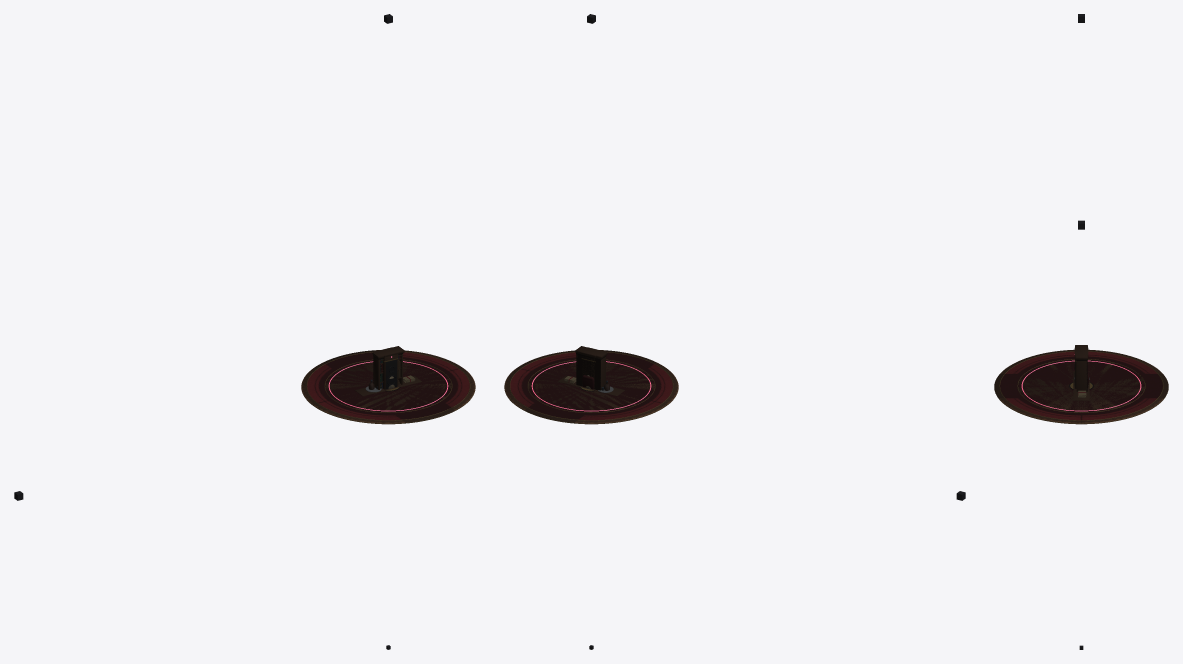
The model's file is DeathsGambitModels_Meeting.fbx.
3 views of the same model, side by side, from view 1: azimuth 30°, elevation 25°; view 2: azimuth 150°, elevation 25°; view 3: azimuth 270°, elevation 25° (orthographic).
Visible parts, largest first — view 1: WarTable, BookcaseTall; view 2: WarTable, BookcaseTall; view 3: WarTable, BookcaseTall, WarTable_Glow.
Boxes of the visible parts, x1=… form: WarTable: x1=301, y1=350, x2=475, y2=424; BookcaseTall: x1=372, y1=346, x2=404, y2=389; WarTable: x1=504, y1=350, x2=678, y2=424; BookcaseTall: x1=575, y1=346, x2=607, y2=390; WarTable: x1=994, y1=349, x2=1168, y2=424; BookcaseTall: x1=1075, y1=345, x2=1087, y2=391; WarTable_Glow: x1=1021, y1=360, x2=1141, y2=411.
Bounding box in the file's own units: 77.58 × 105 × 26.16.
18 materials, 13 textured.
